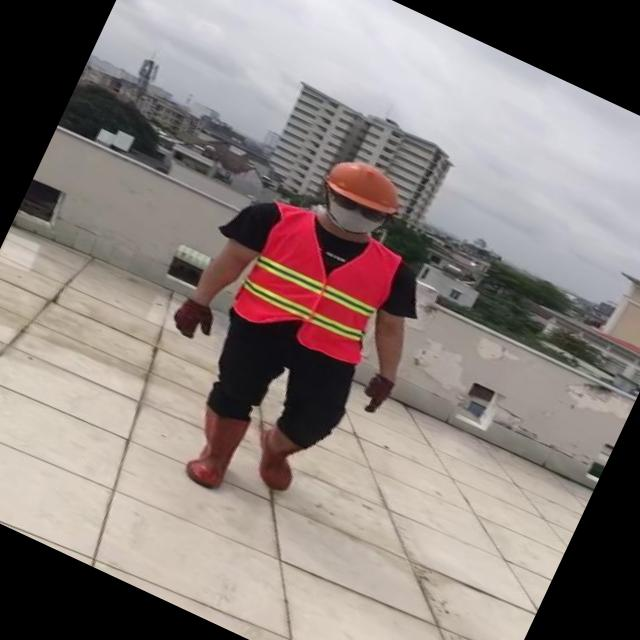hard_hat: (316, 148, 414, 222)
safety_vest: (226, 198, 410, 373)
vehicle: (110, 113, 482, 548)
work_boots: (173, 402, 252, 493), (242, 419, 316, 497)
